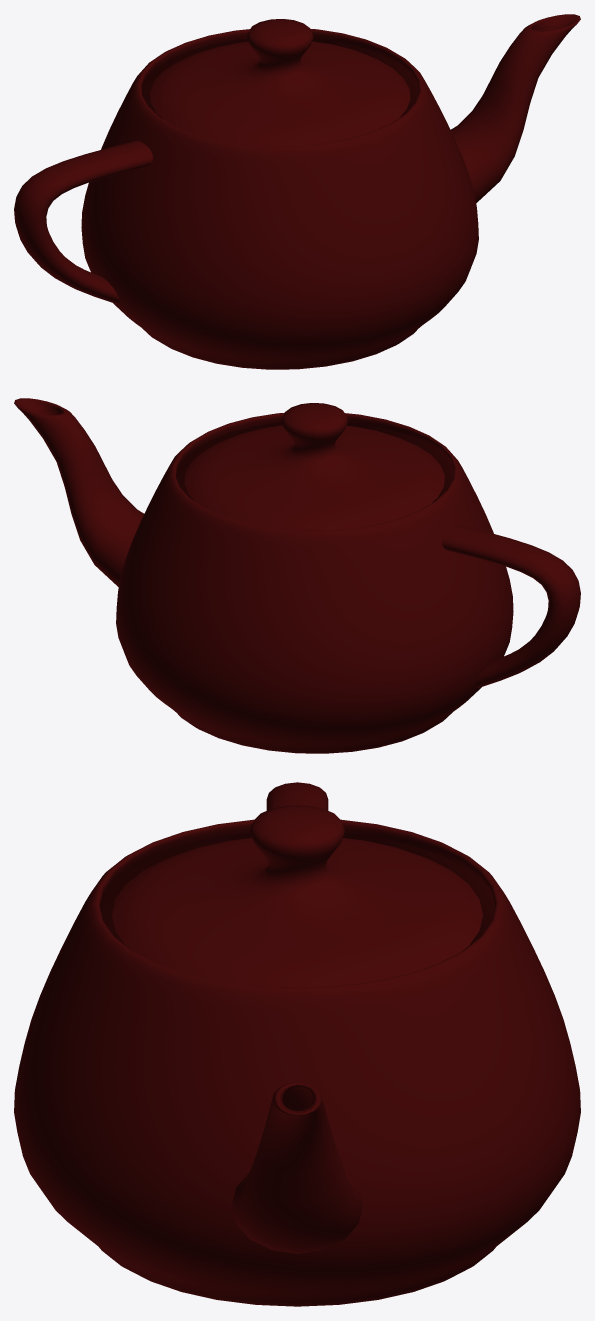
File: RedUtahTeapotPhong.dae
The picture shows the model from 3 angles, top to bottom: view 1: azimuth 30°, elevation 25°; view 2: azimuth 150°, elevation 25°; view 3: azimuth 270°, elevation 25°; orthographic projection. The views are drawn at different scales.
Visible parts, largest first — view 1: UtahFBXASC045TeapotFBXASC045Quads; view 2: UtahFBXASC045TeapotFBXASC045Quads; view 3: UtahFBXASC045TeapotFBXASC045Quads.
Boxes of the visible parts, <box> form: UtahFBXASC045TeapotFBXASC045Quads: <box>14,14,580,369</box>; UtahFBXASC045TeapotFBXASC045Quads: <box>14,398,580,753</box>; UtahFBXASC045TeapotFBXASC045Quads: <box>14,782,580,1306</box>.
Bounding box in the file's own units: 17.83 × 8.81 × 10.9.
